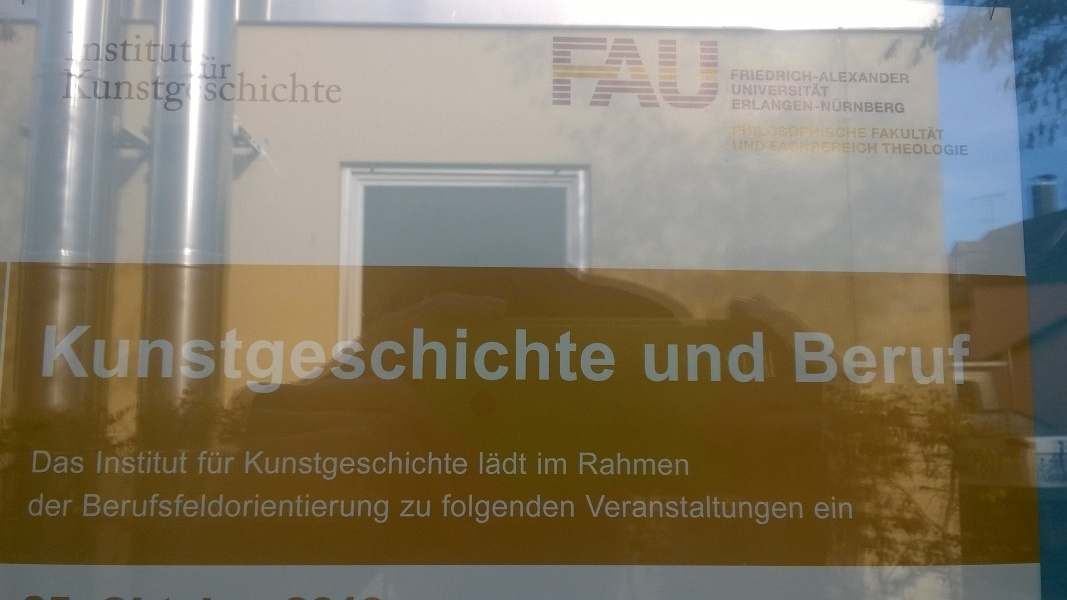text: (49, 324, 64, 400), (65, 324, 80, 400), (81, 324, 96, 400), (97, 324, 112, 400), (113, 324, 128, 400), (129, 324, 144, 400), (145, 324, 160, 400), (161, 324, 176, 400), (177, 324, 192, 400), (193, 324, 208, 400), (209, 324, 224, 400), (225, 324, 240, 400), (241, 324, 256, 400), (257, 324, 272, 400), (273, 324, 288, 400), (289, 324, 304, 400), (305, 324, 320, 400), (321, 324, 336, 400), (337, 324, 352, 400), (353, 324, 368, 400), (369, 324, 384, 400), (385, 324, 400, 400), (401, 324, 416, 400), (417, 324, 432, 400), (433, 324, 448, 400), (449, 324, 464, 400), (465, 324, 480, 400), (481, 324, 496, 400), (497, 324, 512, 400), (513, 324, 528, 400), (529, 324, 544, 400), (545, 324, 560, 400), (561, 324, 576, 400), (577, 324, 592, 400), (593, 324, 608, 400), (561, 36, 576, 111), (577, 36, 592, 111), (593, 36, 608, 111), (609, 36, 624, 111), (625, 36, 640, 111), (641, 36, 656, 111), (657, 36, 672, 111), (673, 36, 688, 111), (689, 36, 704, 111), (705, 36, 719, 111), (609, 324, 620, 400), (801, 332, 816, 387), (817, 332, 832, 387), (833, 332, 848, 387), (849, 332, 864, 387), (865, 332, 880, 387), (881, 332, 896, 387), (897, 332, 912, 387), (913, 332, 928, 387), (929, 332, 944, 387), (945, 332, 960, 387), (657, 331, 672, 385), (673, 331, 688, 385), (689, 331, 704, 385), (705, 331, 720, 385), (721, 331, 736, 385), (737, 331, 752, 385), (81, 70, 96, 119), (97, 70, 112, 119), (113, 70, 128, 119), (129, 70, 144, 119), (145, 70, 160, 119), (161, 70, 176, 119), (177, 70, 192, 119), (193, 70, 208, 119), (209, 70, 224, 119), (225, 70, 240, 119), (241, 70, 256, 119), (257, 70, 272, 119), (273, 70, 288, 119), (289, 70, 304, 119), (305, 70, 320, 119), (321, 70, 336, 119), (753, 331, 766, 385), (66, 70, 80, 119), (961, 332, 973, 387), (552, 36, 560, 111), (645, 331, 656, 385), (81, 31, 96, 65), (97, 31, 112, 65), (113, 31, 128, 65), (129, 31, 144, 65), (145, 31, 160, 65), (161, 31, 176, 65), (177, 31, 192, 65), (257, 450, 272, 483), (273, 450, 288, 483), (289, 450, 304, 483), (305, 450, 320, 483), (321, 450, 336, 483), (337, 450, 352, 483), (353, 450, 368, 483), (369, 450, 384, 483), (385, 450, 400, 483), (401, 450, 416, 483), (417, 450, 432, 483), (433, 450, 448, 483), (449, 450, 464, 483), (66, 31, 80, 65), (593, 496, 608, 527), (609, 496, 624, 527), (625, 496, 640, 527), (641, 496, 656, 527), (657, 496, 672, 527), (673, 496, 688, 527), (689, 496, 704, 527), (705, 496, 720, 527), (721, 496, 736, 527), (737, 496, 752, 527), (753, 496, 768, 527), (769, 496, 784, 527), (785, 496, 800, 527), (97, 494, 112, 525), (113, 494, 128, 525), (129, 494, 144, 525), (145, 494, 160, 525), (161, 494, 176, 525), (177, 494, 192, 525), (193, 494, 208, 525), (209, 494, 224, 525), (225, 494, 240, 525), (241, 494, 256, 525), (257, 494, 272, 525), (273, 494, 288, 525), (289, 494, 304, 525), (305, 494, 320, 525), (321, 494, 336, 525), (337, 494, 352, 525), (353, 494, 368, 525), (369, 494, 384, 525), (449, 494, 464, 524), (465, 494, 480, 524), (481, 494, 496, 524), (497, 494, 512, 524), (513, 494, 528, 524), (529, 494, 544, 524), (545, 494, 560, 524), (561, 494, 576, 524), (513, 451, 529, 479), (243, 450, 256, 483), (481, 451, 496, 479), (497, 451, 512, 479), (97, 450, 112, 477), (113, 450, 128, 477), (129, 450, 144, 477), (145, 450, 160, 477), (161, 450, 176, 477), (33, 450, 48, 476), (49, 450, 64, 476), (65, 450, 80, 476), (545, 452, 560, 478), (593, 453, 608, 479), (609, 453, 624, 479), (625, 453, 640, 479), (641, 453, 656, 479), (657, 453, 672, 479), (673, 453, 688, 479), (817, 497, 832, 522), (833, 497, 848, 522), (33, 494, 48, 519), (49, 494, 64, 519), (84, 494, 96, 525), (209, 56, 224, 80), (209, 453, 224, 477), (417, 498, 433, 520), (177, 450, 190, 477), (225, 453, 239, 477), (401, 498, 416, 520), (580, 453, 592, 479), (65, 494, 77, 519), (337, 70, 343, 119), (197, 453, 208, 477), (737, 69, 752, 86), (753, 69, 768, 86), (769, 69, 784, 86), (785, 69, 800, 86), (801, 69, 816, 86), (817, 69, 832, 86), (833, 69, 848, 86), (849, 69, 864, 86), (865, 69, 880, 86), (881, 69, 896, 86), (584, 496, 592, 527), (737, 98, 752, 114), (753, 98, 768, 114), (769, 98, 784, 114), (785, 98, 800, 114), (801, 98, 816, 114), (817, 98, 832, 114), (833, 98, 848, 114), (849, 98, 864, 114), (865, 98, 880, 114), (881, 98, 896, 114), (897, 69, 911, 86), (45, 324, 48, 400), (881, 126, 896, 141), (897, 126, 912, 141), (913, 126, 928, 141), (929, 126, 944, 141), (796, 332, 800, 387), (897, 143, 912, 157), (913, 143, 928, 157), (929, 143, 944, 157), (945, 143, 960, 157), (441, 494, 448, 524), (561, 452, 569, 478), (882, 143, 896, 157), (737, 85, 752, 98), (753, 85, 768, 98), (769, 85, 784, 98), (785, 85, 800, 98), (801, 85, 816, 98), (737, 126, 752, 139), (753, 126, 768, 139), (769, 126, 784, 139), (785, 126, 800, 139), (801, 126, 816, 139), (817, 126, 832, 139), (833, 126, 848, 139), (849, 126, 864, 139), (785, 141, 800, 154), (801, 141, 816, 154), (817, 141, 832, 154), (833, 141, 848, 154), (849, 141, 864, 154), (225, 56, 233, 80), (801, 496, 807, 527), (770, 141, 784, 154), (865, 141, 879, 154), (537, 452, 544, 478), (817, 85, 830, 98), (201, 56, 208, 80), (737, 141, 752, 152), (465, 450, 470, 483), (385, 494, 390, 525), (753, 141, 766, 152), (81, 450, 86, 476), (897, 98, 905, 114), (849, 497, 854, 522), (872, 126, 880, 141), (961, 143, 969, 157), (28, 494, 32, 519), (732, 69, 736, 86), (193, 31, 195, 65), (478, 451, 480, 479), (732, 85, 736, 98), (732, 126, 736, 139), (689, 453, 691, 479), (733, 98, 736, 114), (733, 141, 736, 152), (865, 126, 867, 139), (815, 497, 816, 522), (945, 126, 946, 141)
